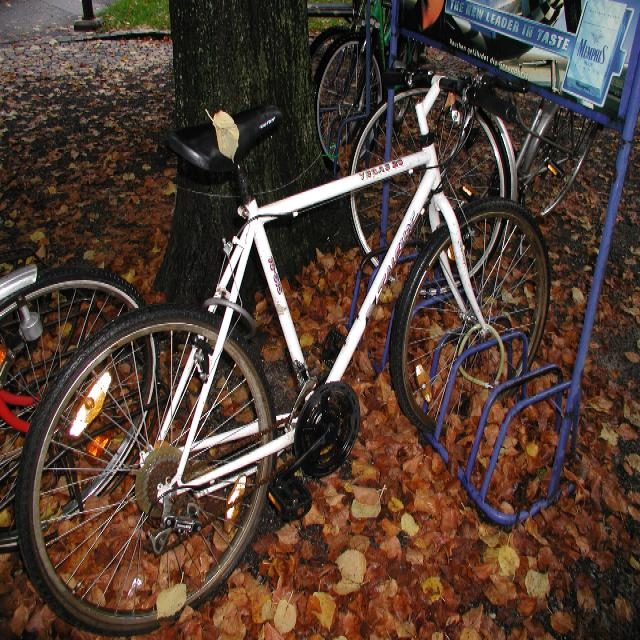bicycle: (15, 72, 551, 635), (0, 262, 156, 554)
